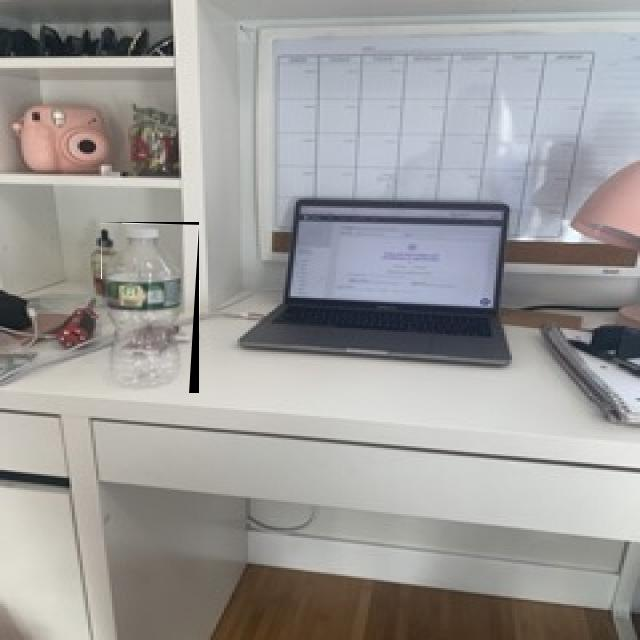water_bottle: (102, 222, 199, 393)
